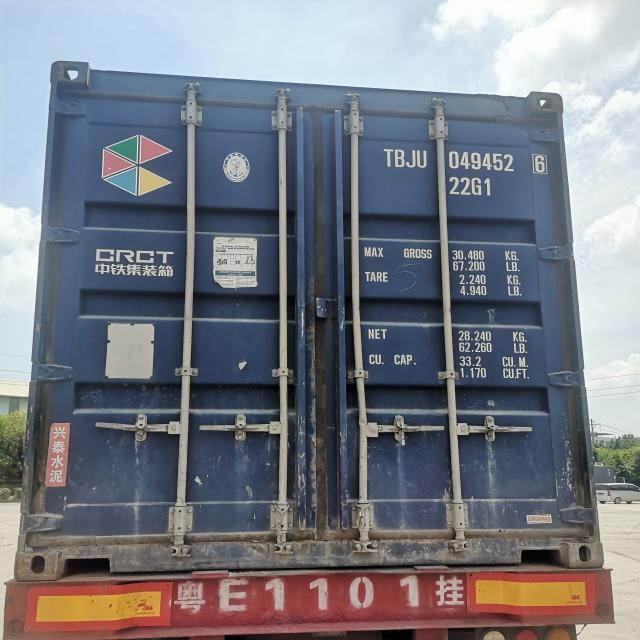ISO: (450, 177, 492, 197)
container_number: (378, 146, 549, 177)
